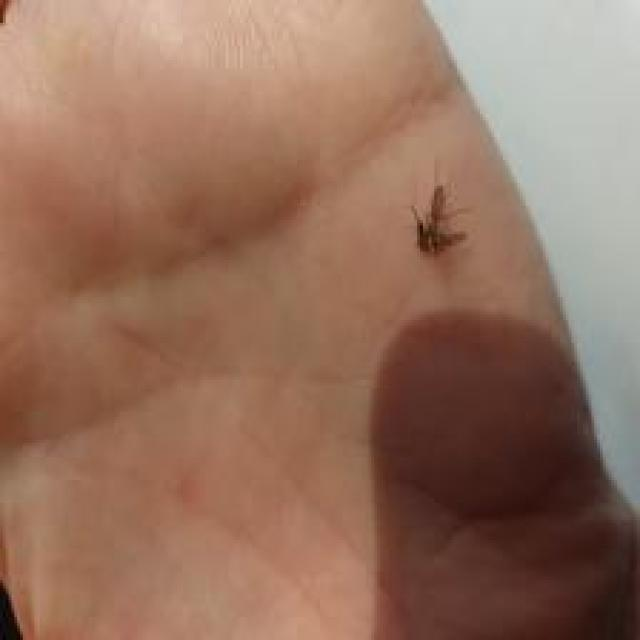Culex: (407, 181, 470, 256)
